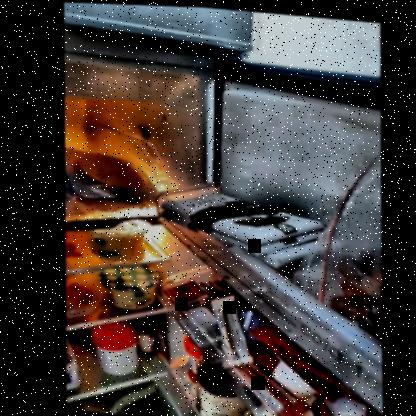chocolate: (165, 190, 313, 245)
salami: (62, 150, 147, 192)
tomato: (62, 280, 91, 305)
yoghurt: (91, 269, 159, 310), (89, 228, 142, 259)
